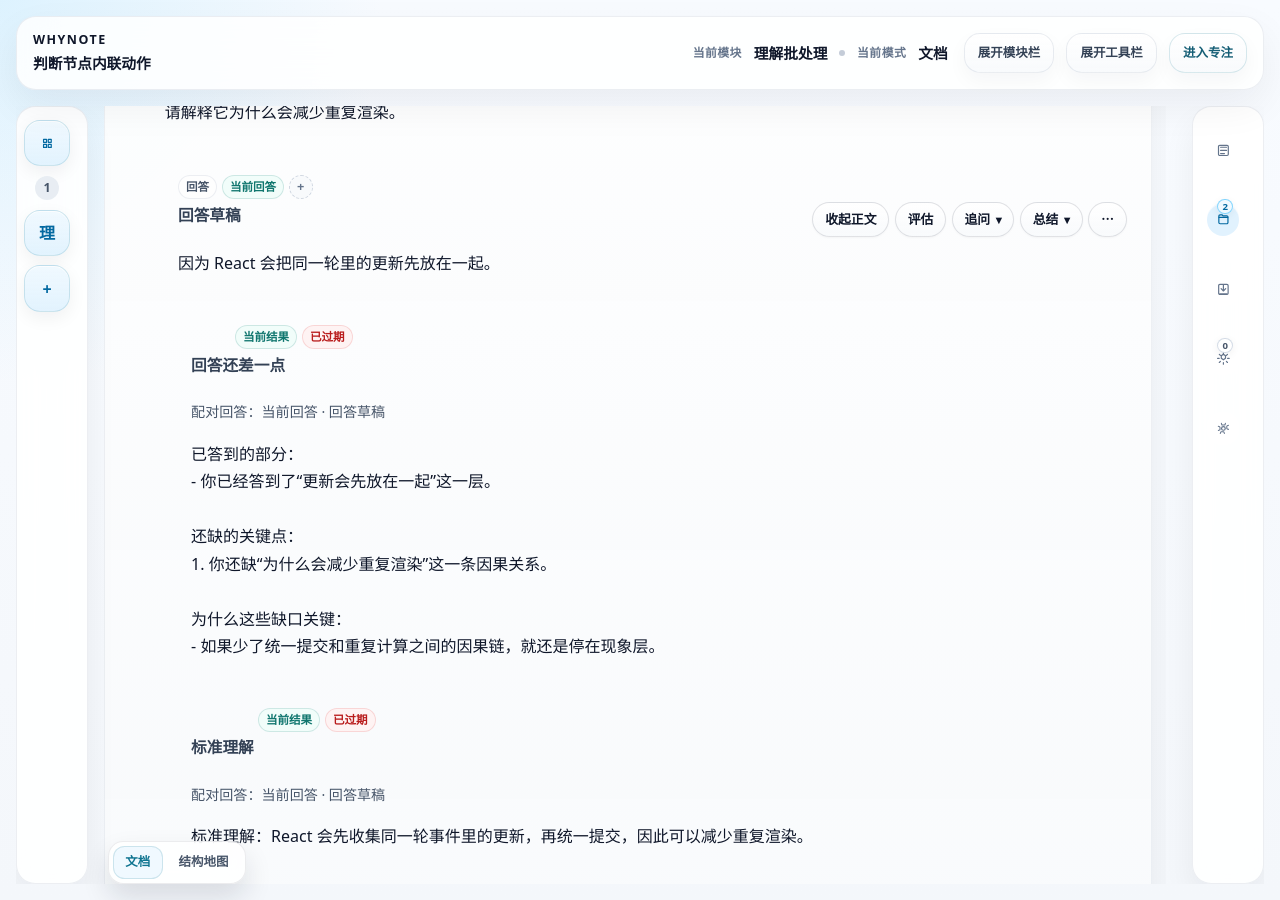
jumps from judgment to the matching summary and shows it as an answer explanation
The width and height of the screenshot is (1280, 900).
(page scrolled)
Click the element with test id "editor-node-judgment-inline-primary".
click(169, 325)  # box [129,310,1127,679]
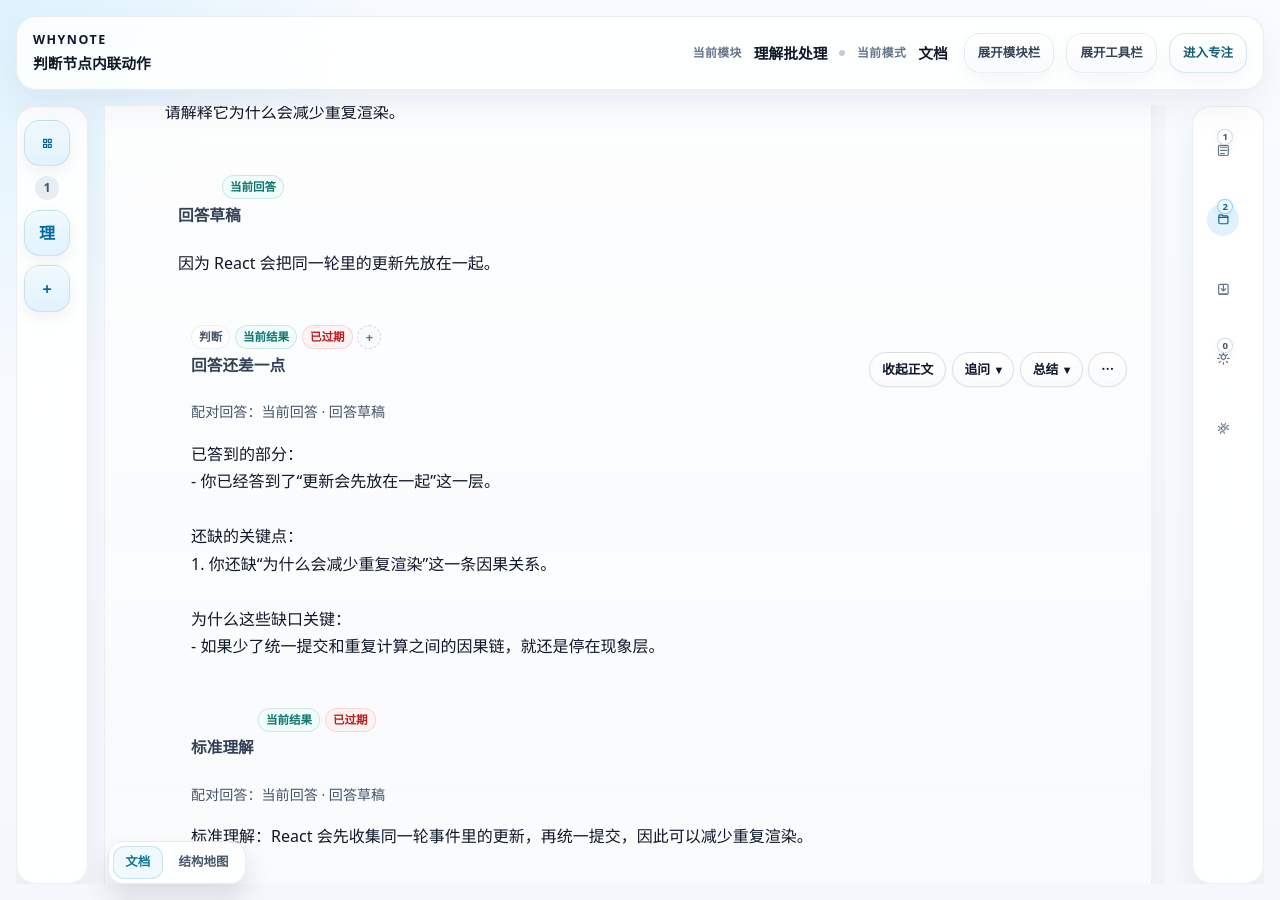
Click the button "⋯".
click(1107, 370)  # box [1088,352,1127,387]
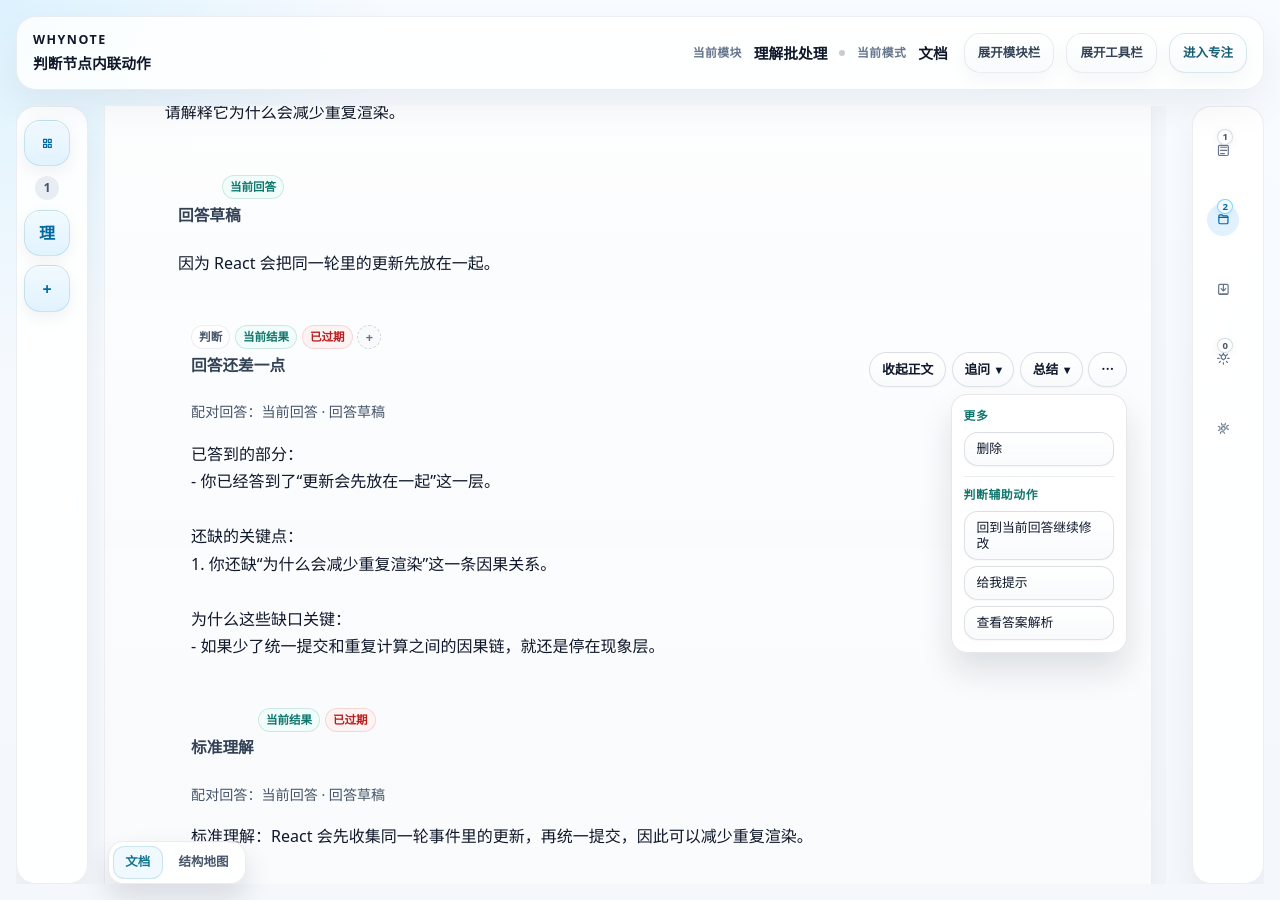
Click the button "查看答案解析".
click(1039, 622)  # box [964,606,1114,640]
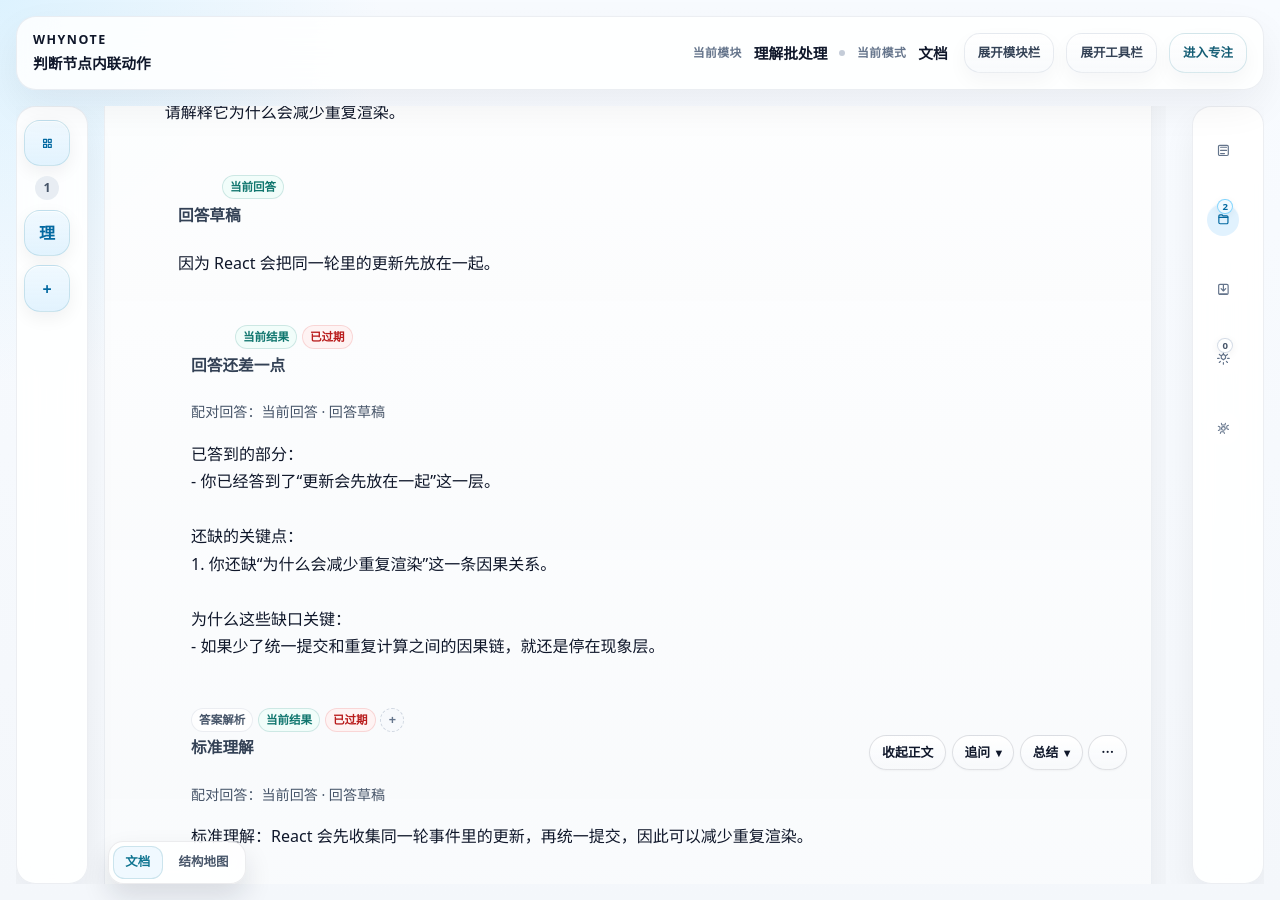
Now the text "答案解析" is shown, box [191,708,253,732]
